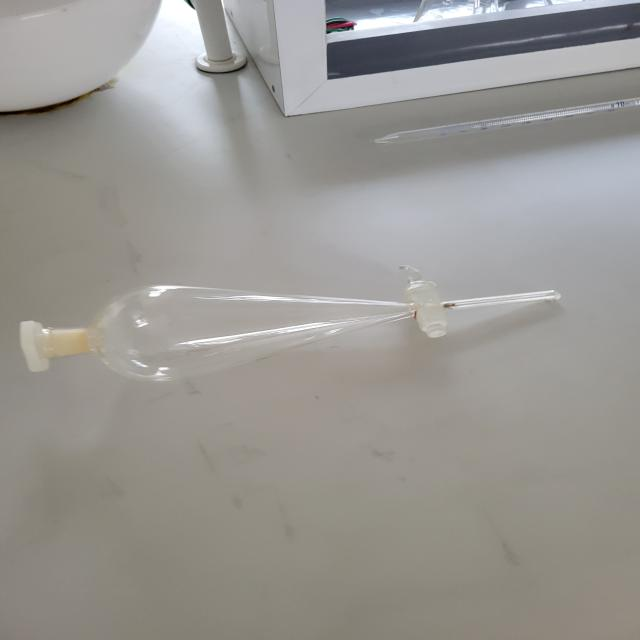Separating_Funnel: (9, 224, 577, 452)
